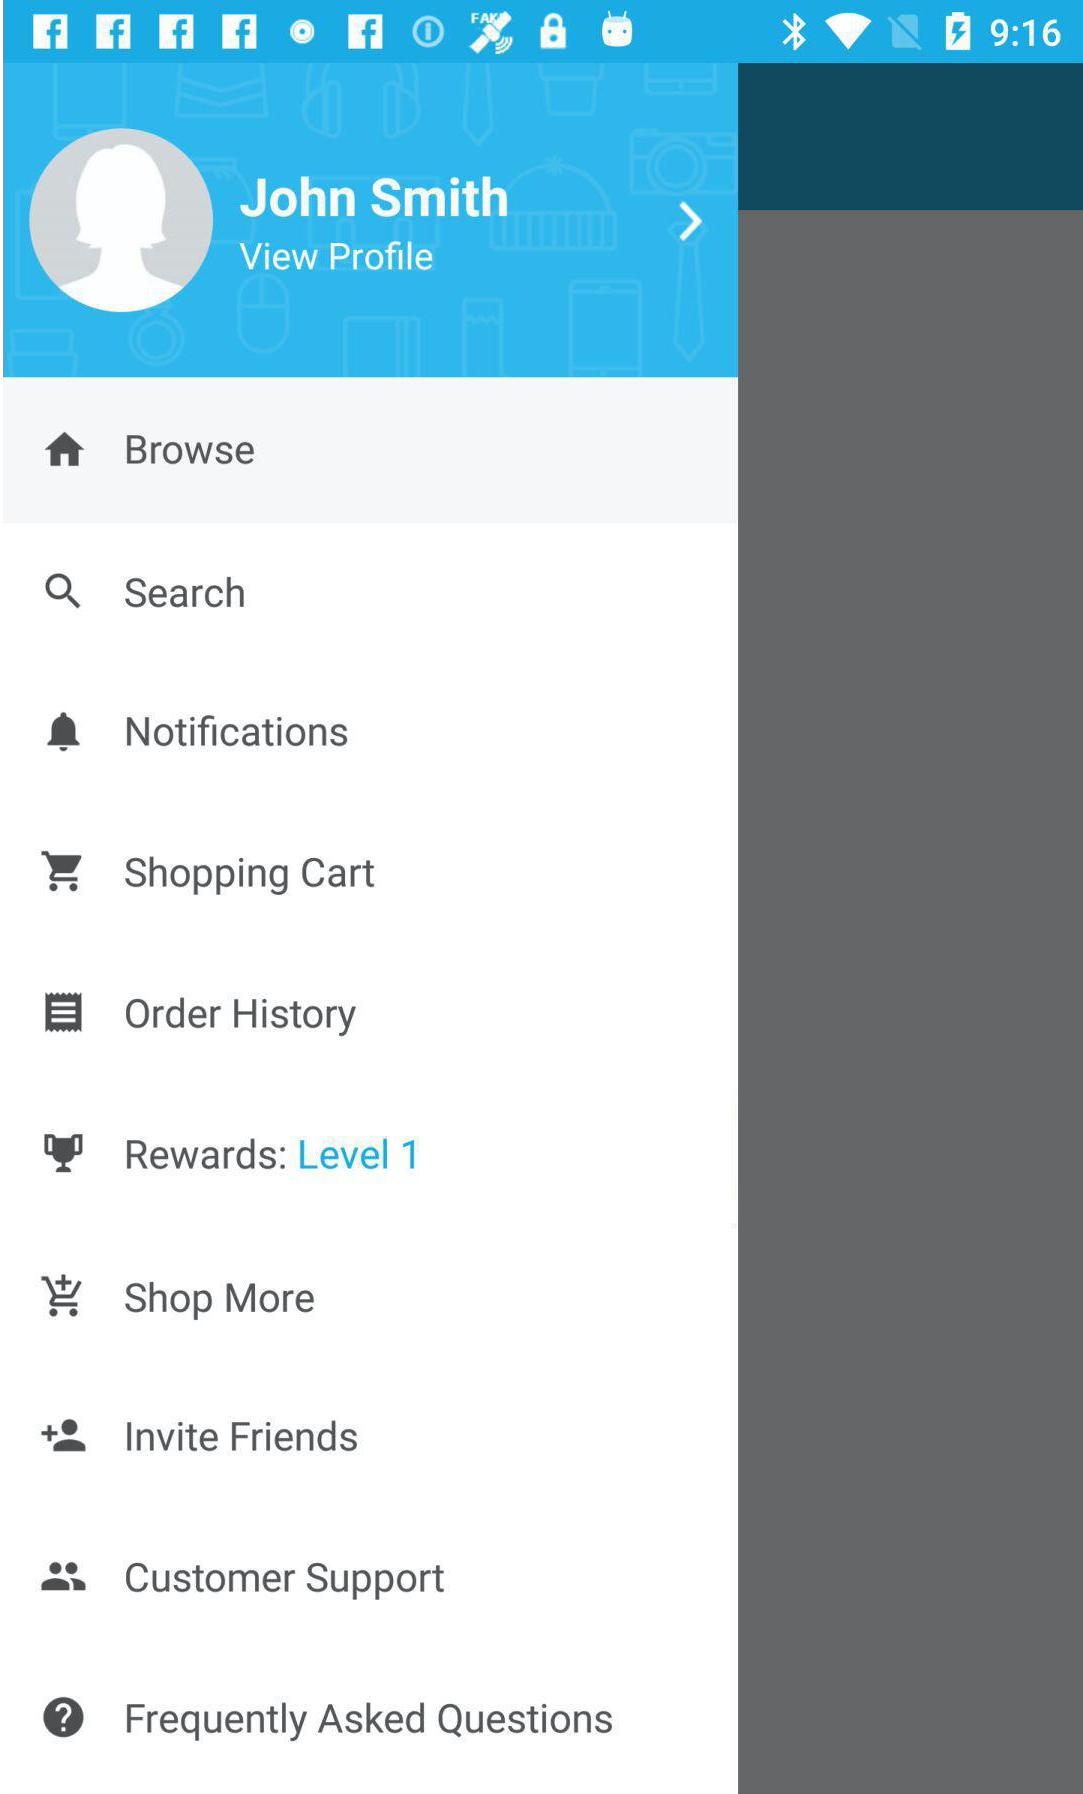Drawer: (1, 64, 738, 1794)
Icon: (27, 129, 213, 314), (38, 1274, 81, 1319), (38, 850, 81, 893), (40, 1697, 82, 1738), (38, 1419, 85, 1453), (42, 991, 79, 1033), (44, 712, 79, 753), (42, 432, 83, 468), (38, 1561, 85, 1592), (44, 573, 79, 610), (674, 199, 704, 243)
Image: (41, 1133, 82, 1173)
Text: (126, 1700, 613, 1743), (123, 1562, 443, 1601), (237, 176, 509, 220), (120, 856, 374, 897), (124, 1137, 414, 1171), (122, 996, 356, 1038), (124, 1419, 358, 1453), (123, 712, 347, 748), (122, 1281, 314, 1322), (235, 238, 433, 274), (124, 434, 254, 466), (122, 575, 244, 609)
UpperTaskBar: (1, 1, 1083, 64)
